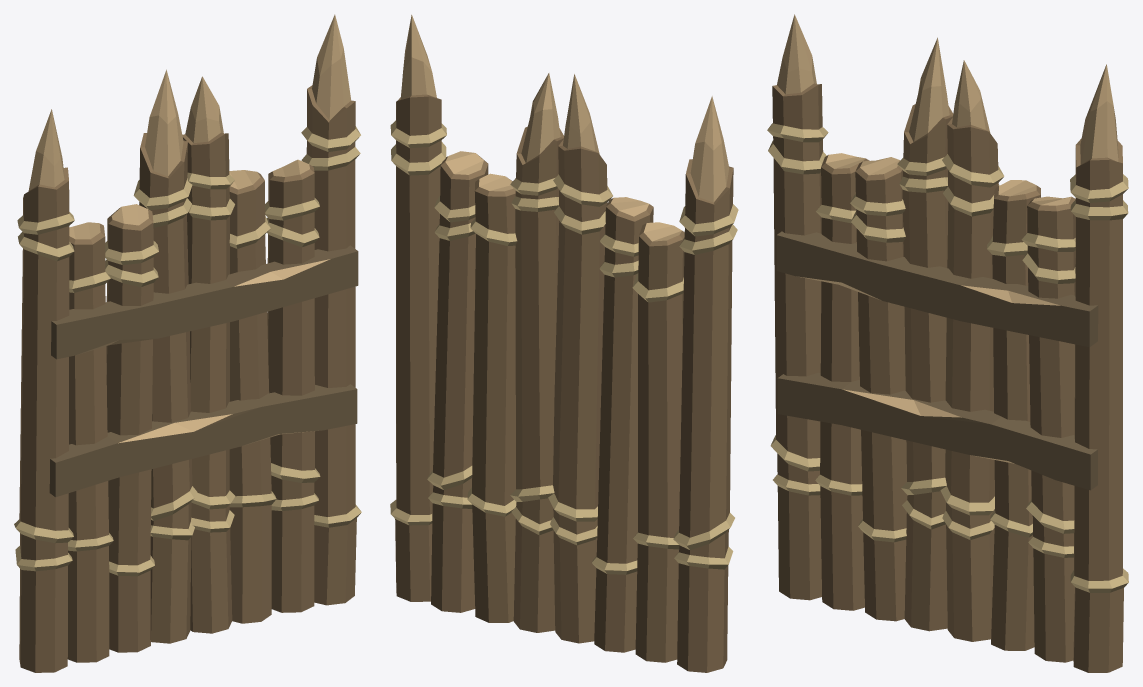
The model's file is rpgpp_ag_stockade_01d_4x6.fbx.
3 renders of one model, left to right at view 1: azimuth 30°, elevation 25°; view 2: azimuth 150°, elevation 25°; view 3: azimuth 330°, elevation 25°, orthographic. The views are drawn at different scales.
Visible parts, largest first — view 1: rpgpp_ag_stockade_01d_4x6; view 2: rpgpp_ag_stockade_01d_4x6; view 3: rpgpp_ag_stockade_01d_4x6.
Boxes of the visible parts, x1,y1,x2,y2 form: rpgpp_ag_stockade_01d_4x6: (14,14,361,672); rpgpp_ag_stockade_01d_4x6: (390,14,738,672); rpgpp_ag_stockade_01d_4x6: (767,14,1128,672).
Size of the model in its own units: 4.14 by 6.72 by 0.8463.
